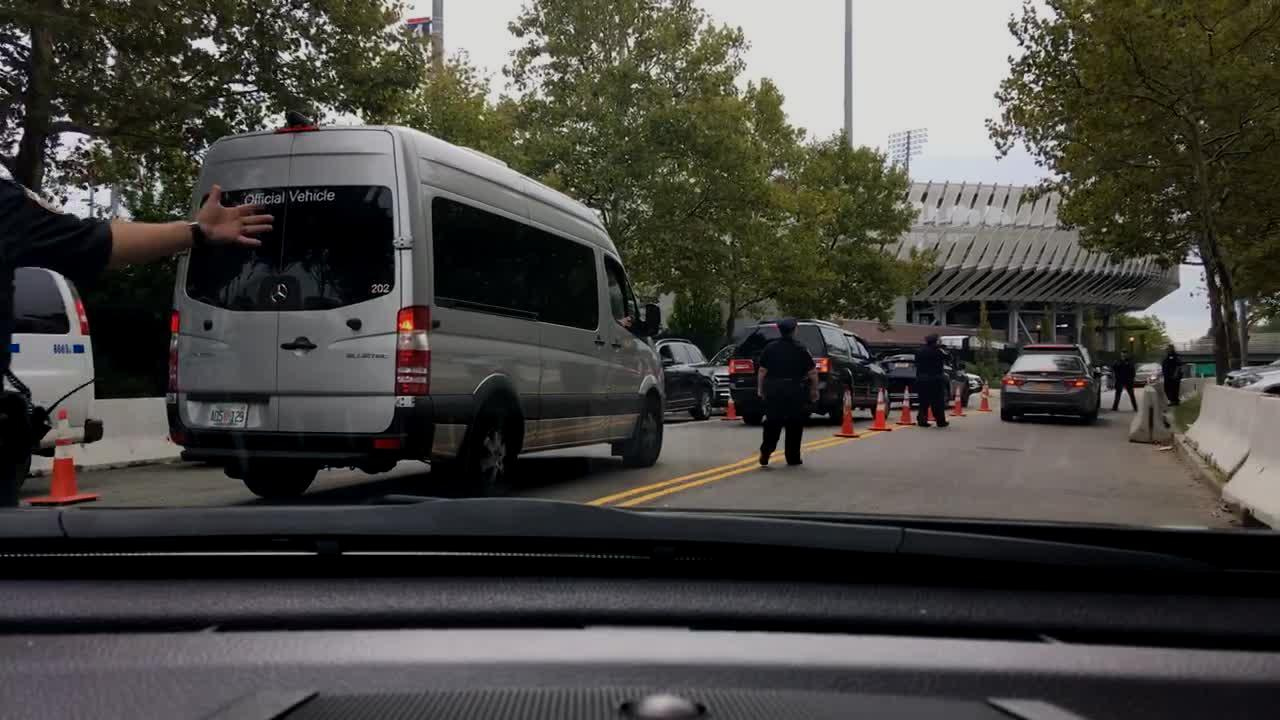Mercedes: (264, 279, 299, 313)
